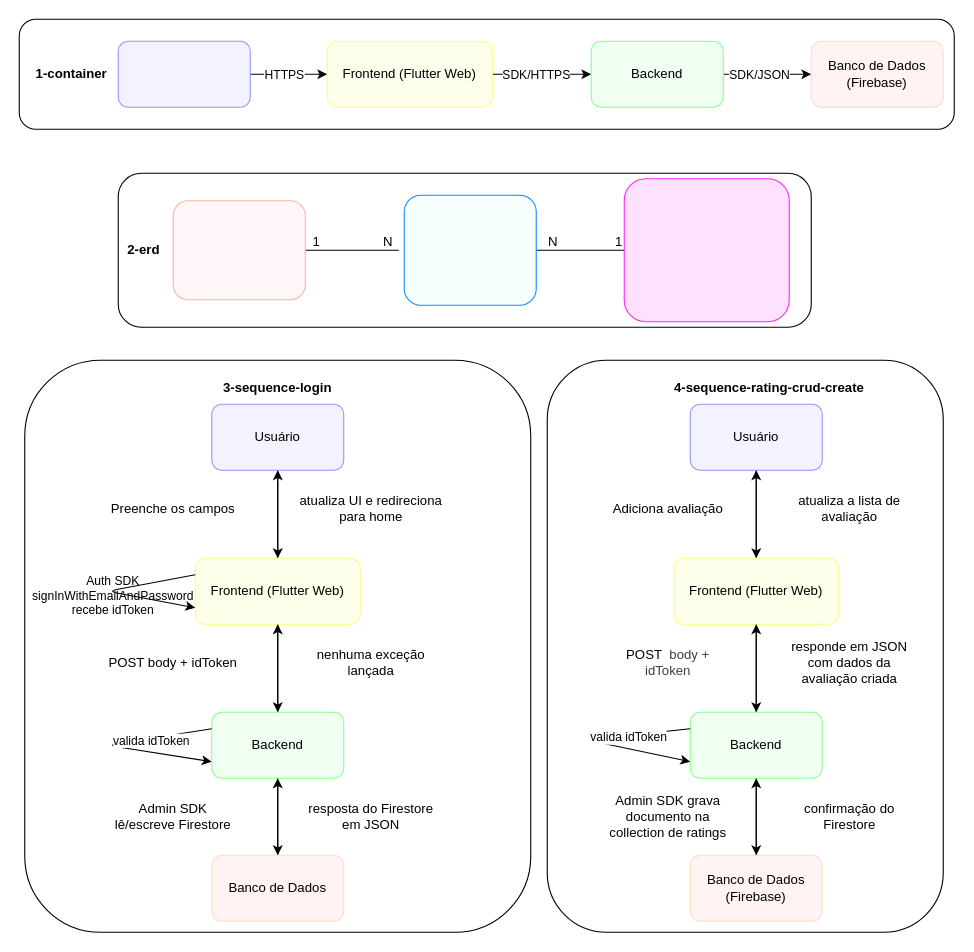
Some shapes in this 974 by 952 pixel diagram are drawn without their labels. The centre of each missing label's shape, as x and y in pixels:
Movie - id - title - sinopse - genres - directors - year - cover: the point at 706,250
Navegador: the point at 183,73
Rating - id - rating - comment - userId - movieId: the point at 469,249
User - id - name - email -role: the point at 238,250
